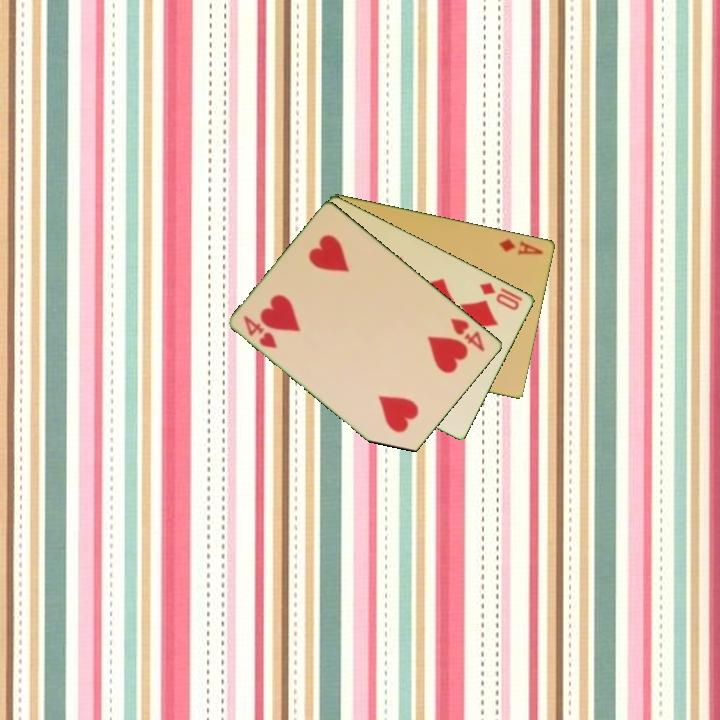10d: (476, 279, 523, 313)
4h: (447, 314, 488, 355), (240, 311, 281, 351)
Ad: (496, 235, 546, 258)
